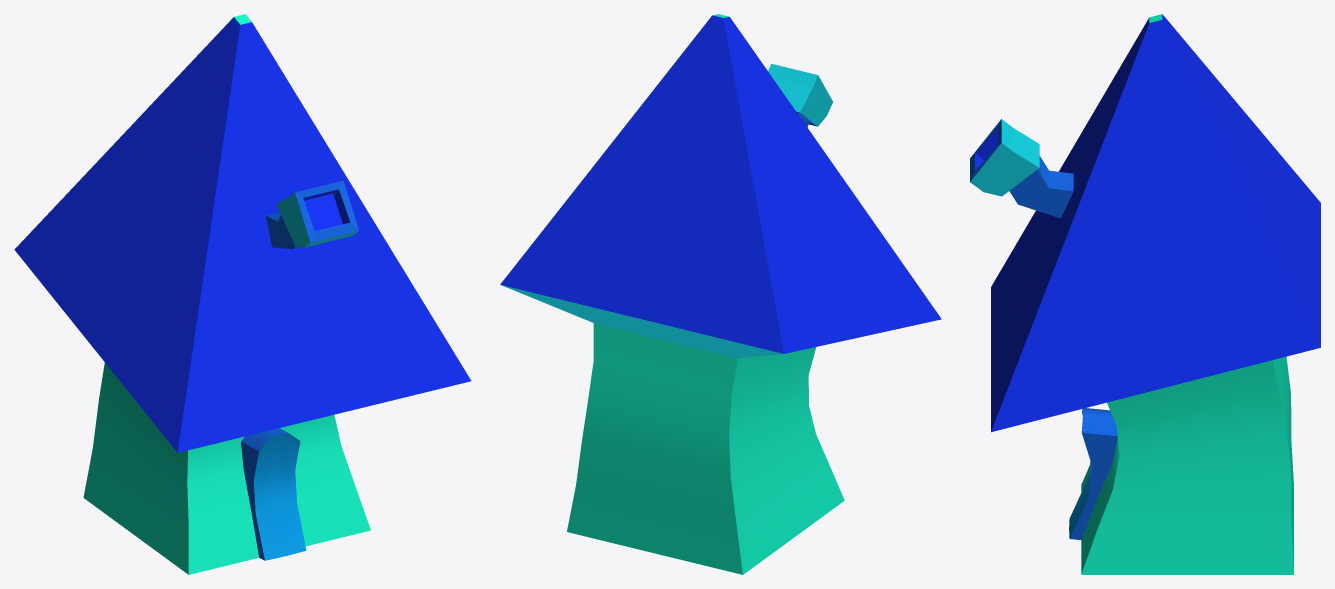
File: LowPolyHouse2.fbx
The picture shows the model from 3 angles, left to right: view 1: azimuth 30°, elevation 25°; view 2: azimuth 150°, elevation 25°; view 3: azimuth 270°, elevation 25°; orthographic projection. The views are drawn at different scales.
Visible parts, largest first — view 1: pCube1, pCube3, pCube2; view 2: pCube1, pCube2; view 3: pCube1, pCube2, pCube3.
Part boxes in pixels (<box>): pCube1: <box>14,14,471,574</box>; pCube3: <box>241,428,306,560</box>; pCube2: <box>266,180,358,249</box>; pCube1: <box>500,14,941,574</box>; pCube2: <box>768,63,832,127</box>; pCube1: <box>991,14,1320,574</box>; pCube2: <box>970,119,1073,218</box>; pCube3: <box>1069,408,1117,539</box>.
Bounding box in the file's own units: 4.27 × 7.09 × 4.37.
1 material, 1 textured.
